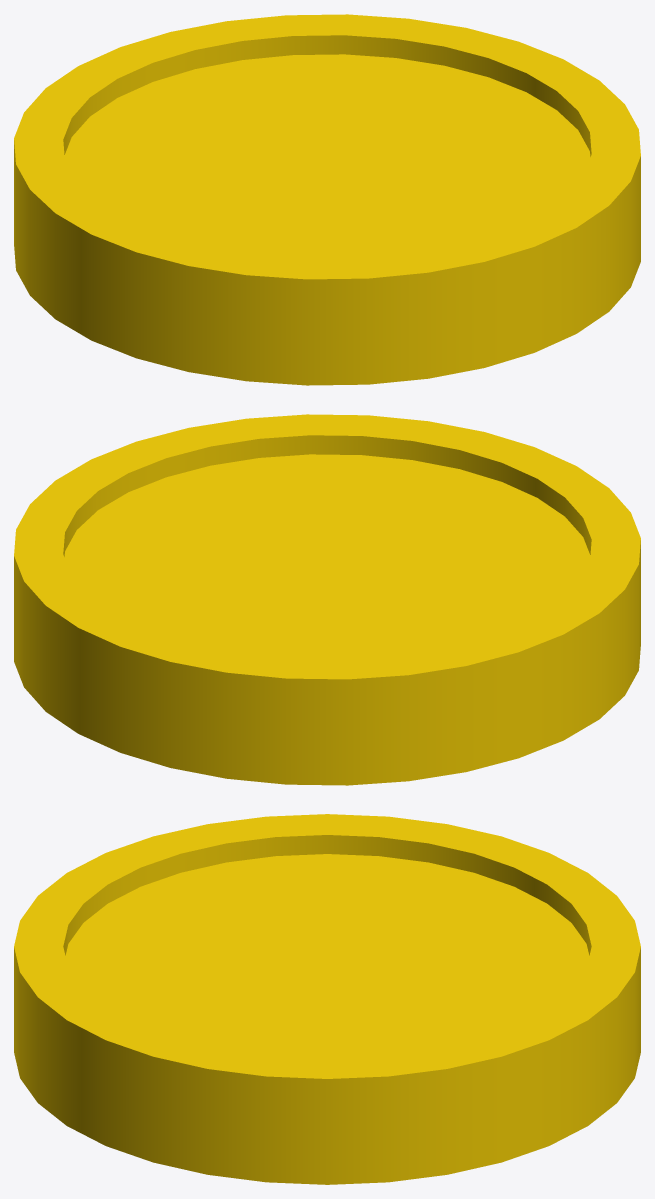
The model's file is coin.fbx.
The picture shows the model from 3 angles, top to bottom: view 1: azimuth 30°, elevation 25°; view 2: azimuth 150°, elevation 25°; view 3: azimuth 270°, elevation 25°; orthographic projection.
Parts seen in each view (by area): view 1: Cylinder.001; view 2: Cylinder.001; view 3: Cylinder.001.
Part boxes in pixels (left/top/right/bottom): Cylinder.001: left=14, top=14, right=640, bottom=385; Cylinder.001: left=14, top=414, right=640, bottom=785; Cylinder.001: left=14, top=814, right=640, bottom=1184.
Size of the model in its own units: 7.83 by 1.46 by 7.83.
